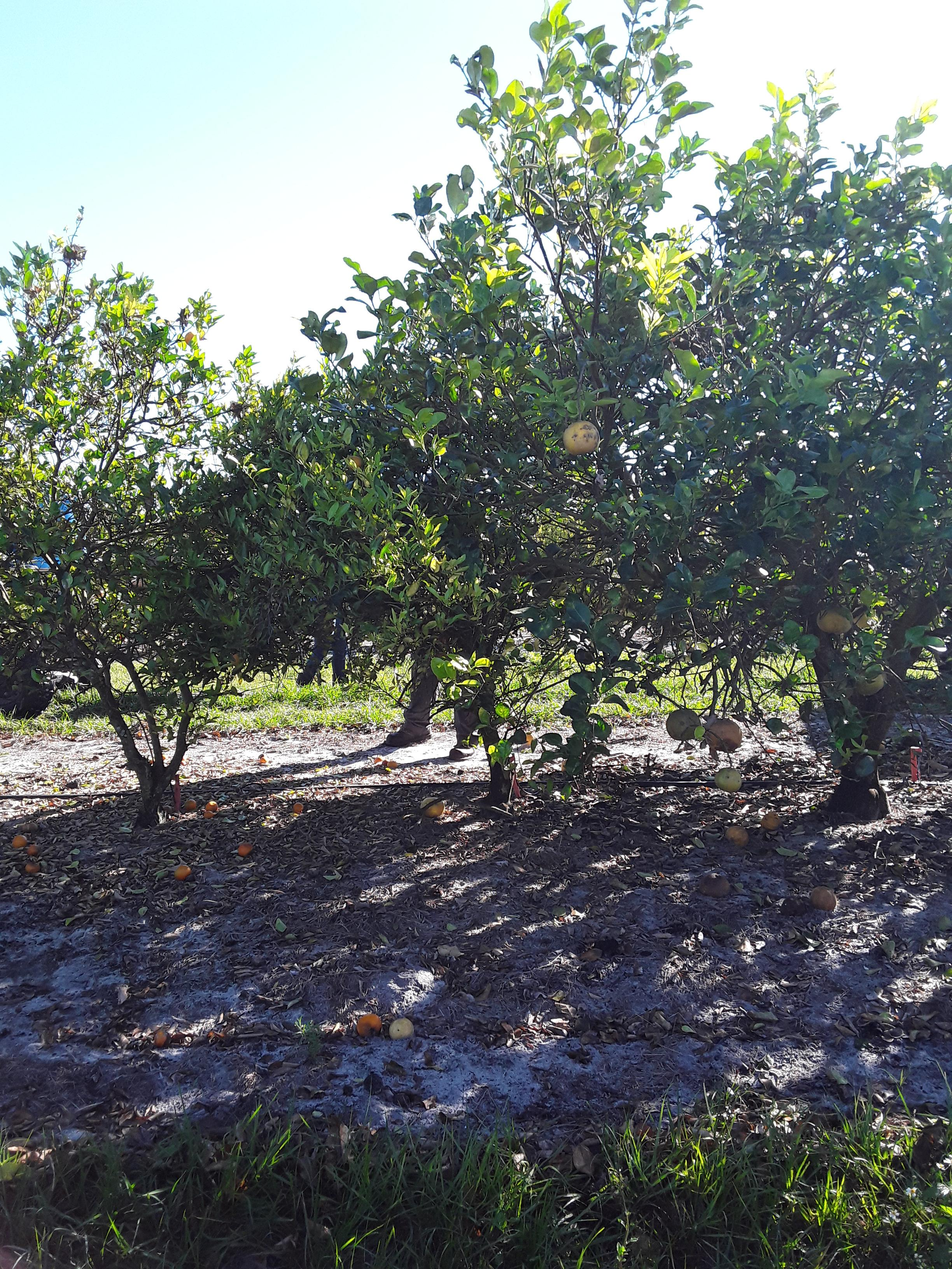fruit_on_ground: (661, 705, 705, 742), (701, 716, 745, 753), (635, 549, 679, 585), (562, 420, 602, 458), (819, 670, 861, 703), (814, 602, 856, 634), (855, 662, 889, 696), (713, 766, 746, 794), (687, 643, 712, 667), (180, 327, 203, 352), (577, 645, 597, 668), (228, 647, 247, 669), (343, 457, 367, 472)
fruit_on_tree: (772, 897, 812, 921), (700, 871, 735, 898), (809, 884, 838, 915), (359, 1012, 385, 1042), (723, 822, 749, 851), (593, 937, 624, 961), (759, 809, 783, 837), (421, 795, 446, 820), (388, 1021, 411, 1047), (562, 757, 593, 773), (516, 729, 539, 749), (173, 861, 193, 884), (152, 1028, 172, 1049), (518, 729, 539, 744), (11, 832, 28, 849), (182, 797, 200, 813), (290, 801, 308, 817), (27, 844, 48, 857), (237, 840, 252, 858), (23, 861, 43, 874), (20, 822, 40, 834), (206, 800, 220, 812), (373, 755, 386, 765), (259, 756, 271, 765), (387, 760, 400, 768), (204, 810, 215, 818), (382, 759, 391, 767)
